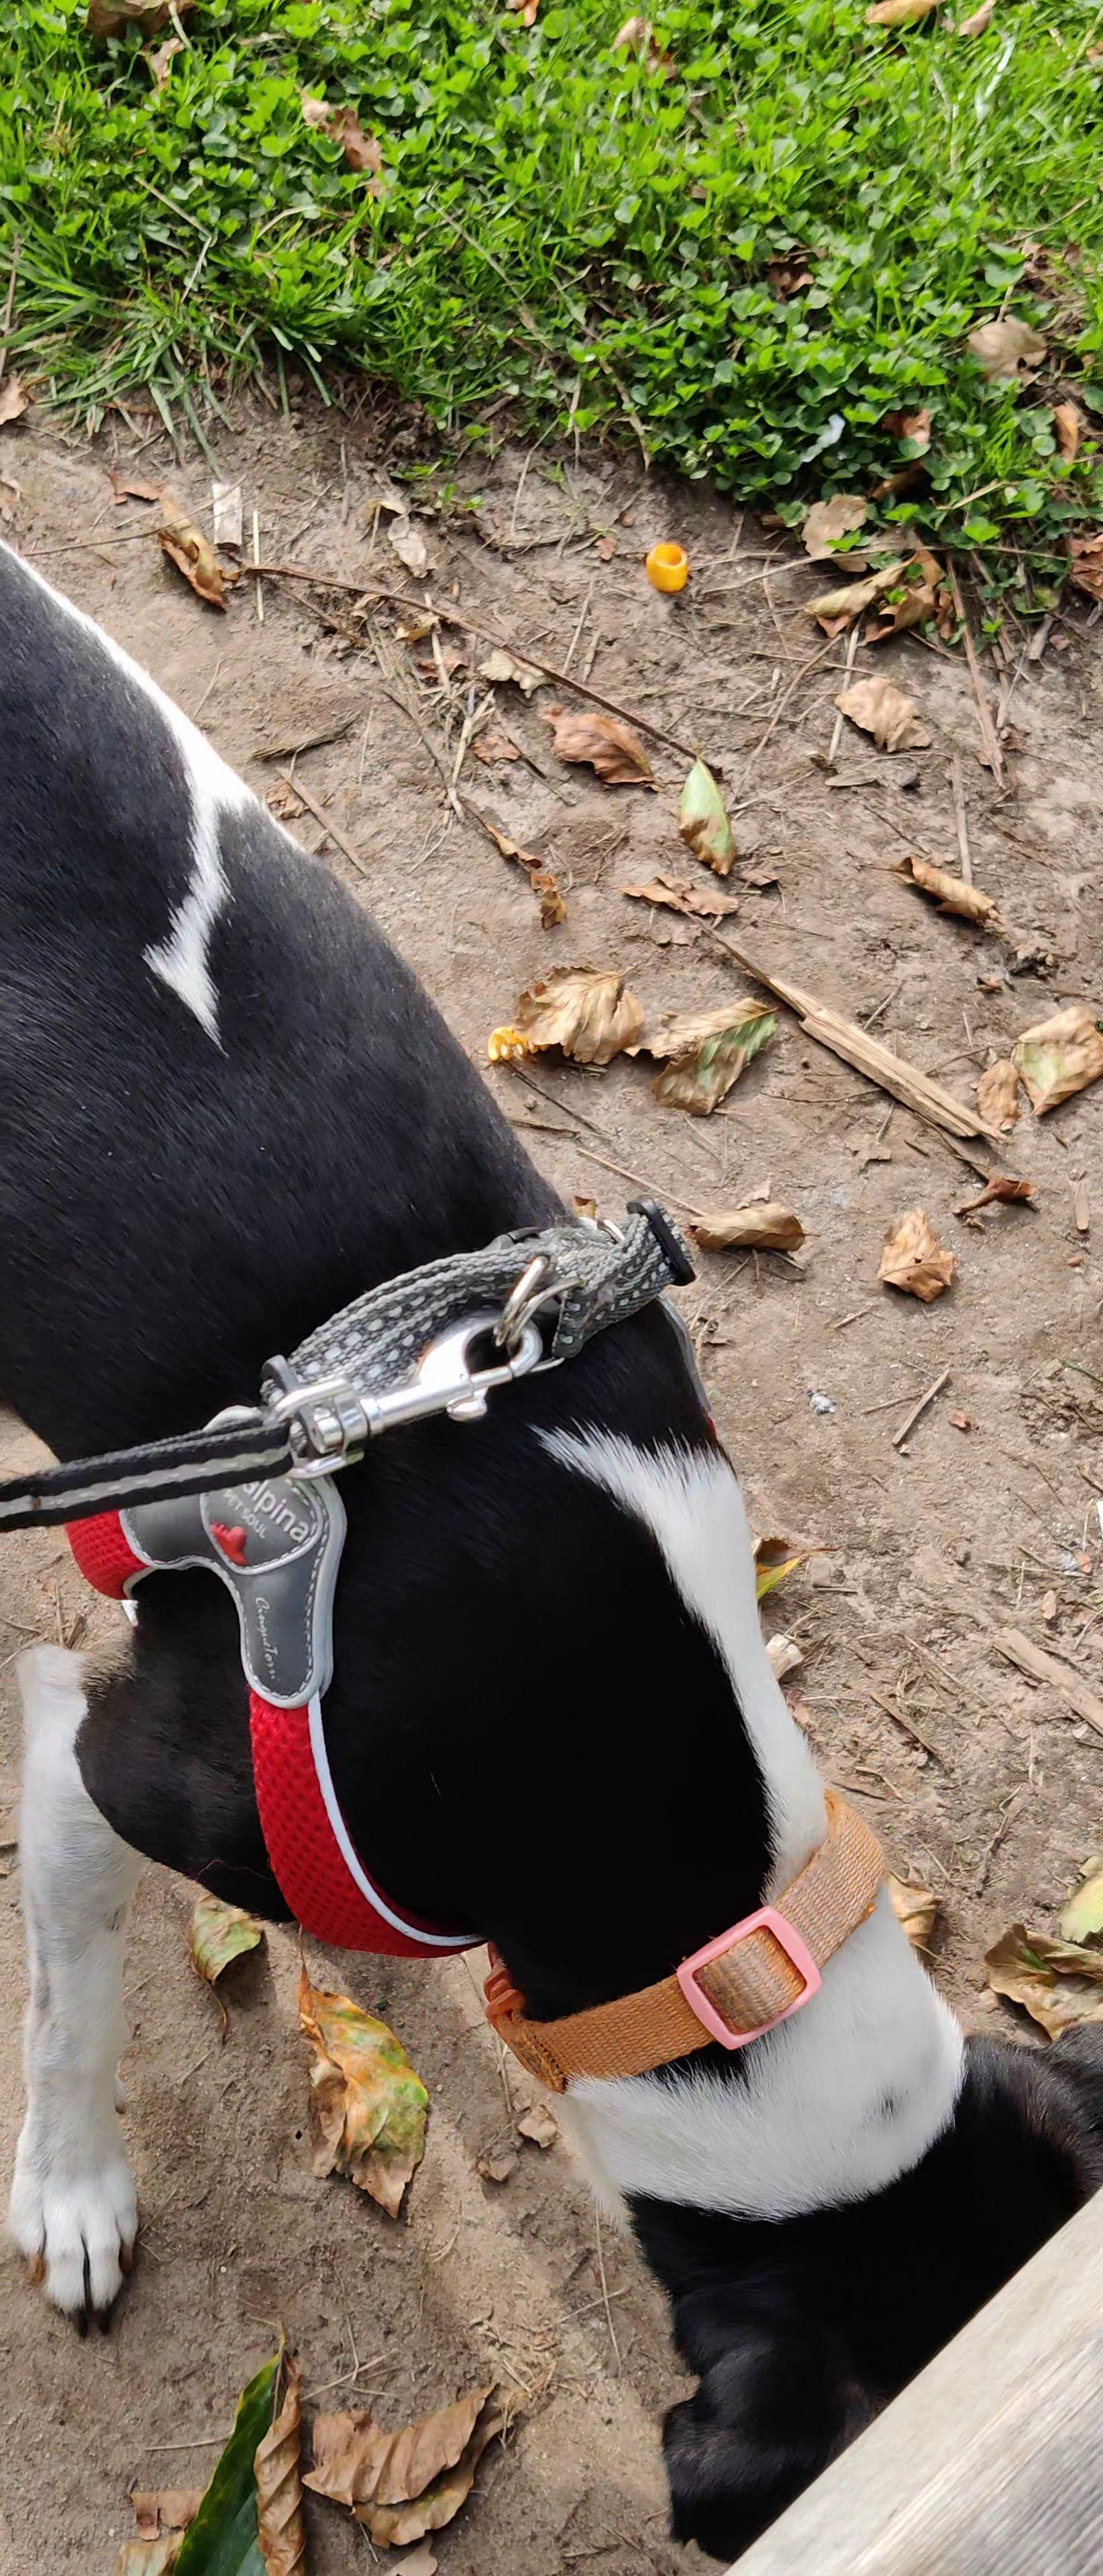Dog: (0, 508, 1103, 2560)
